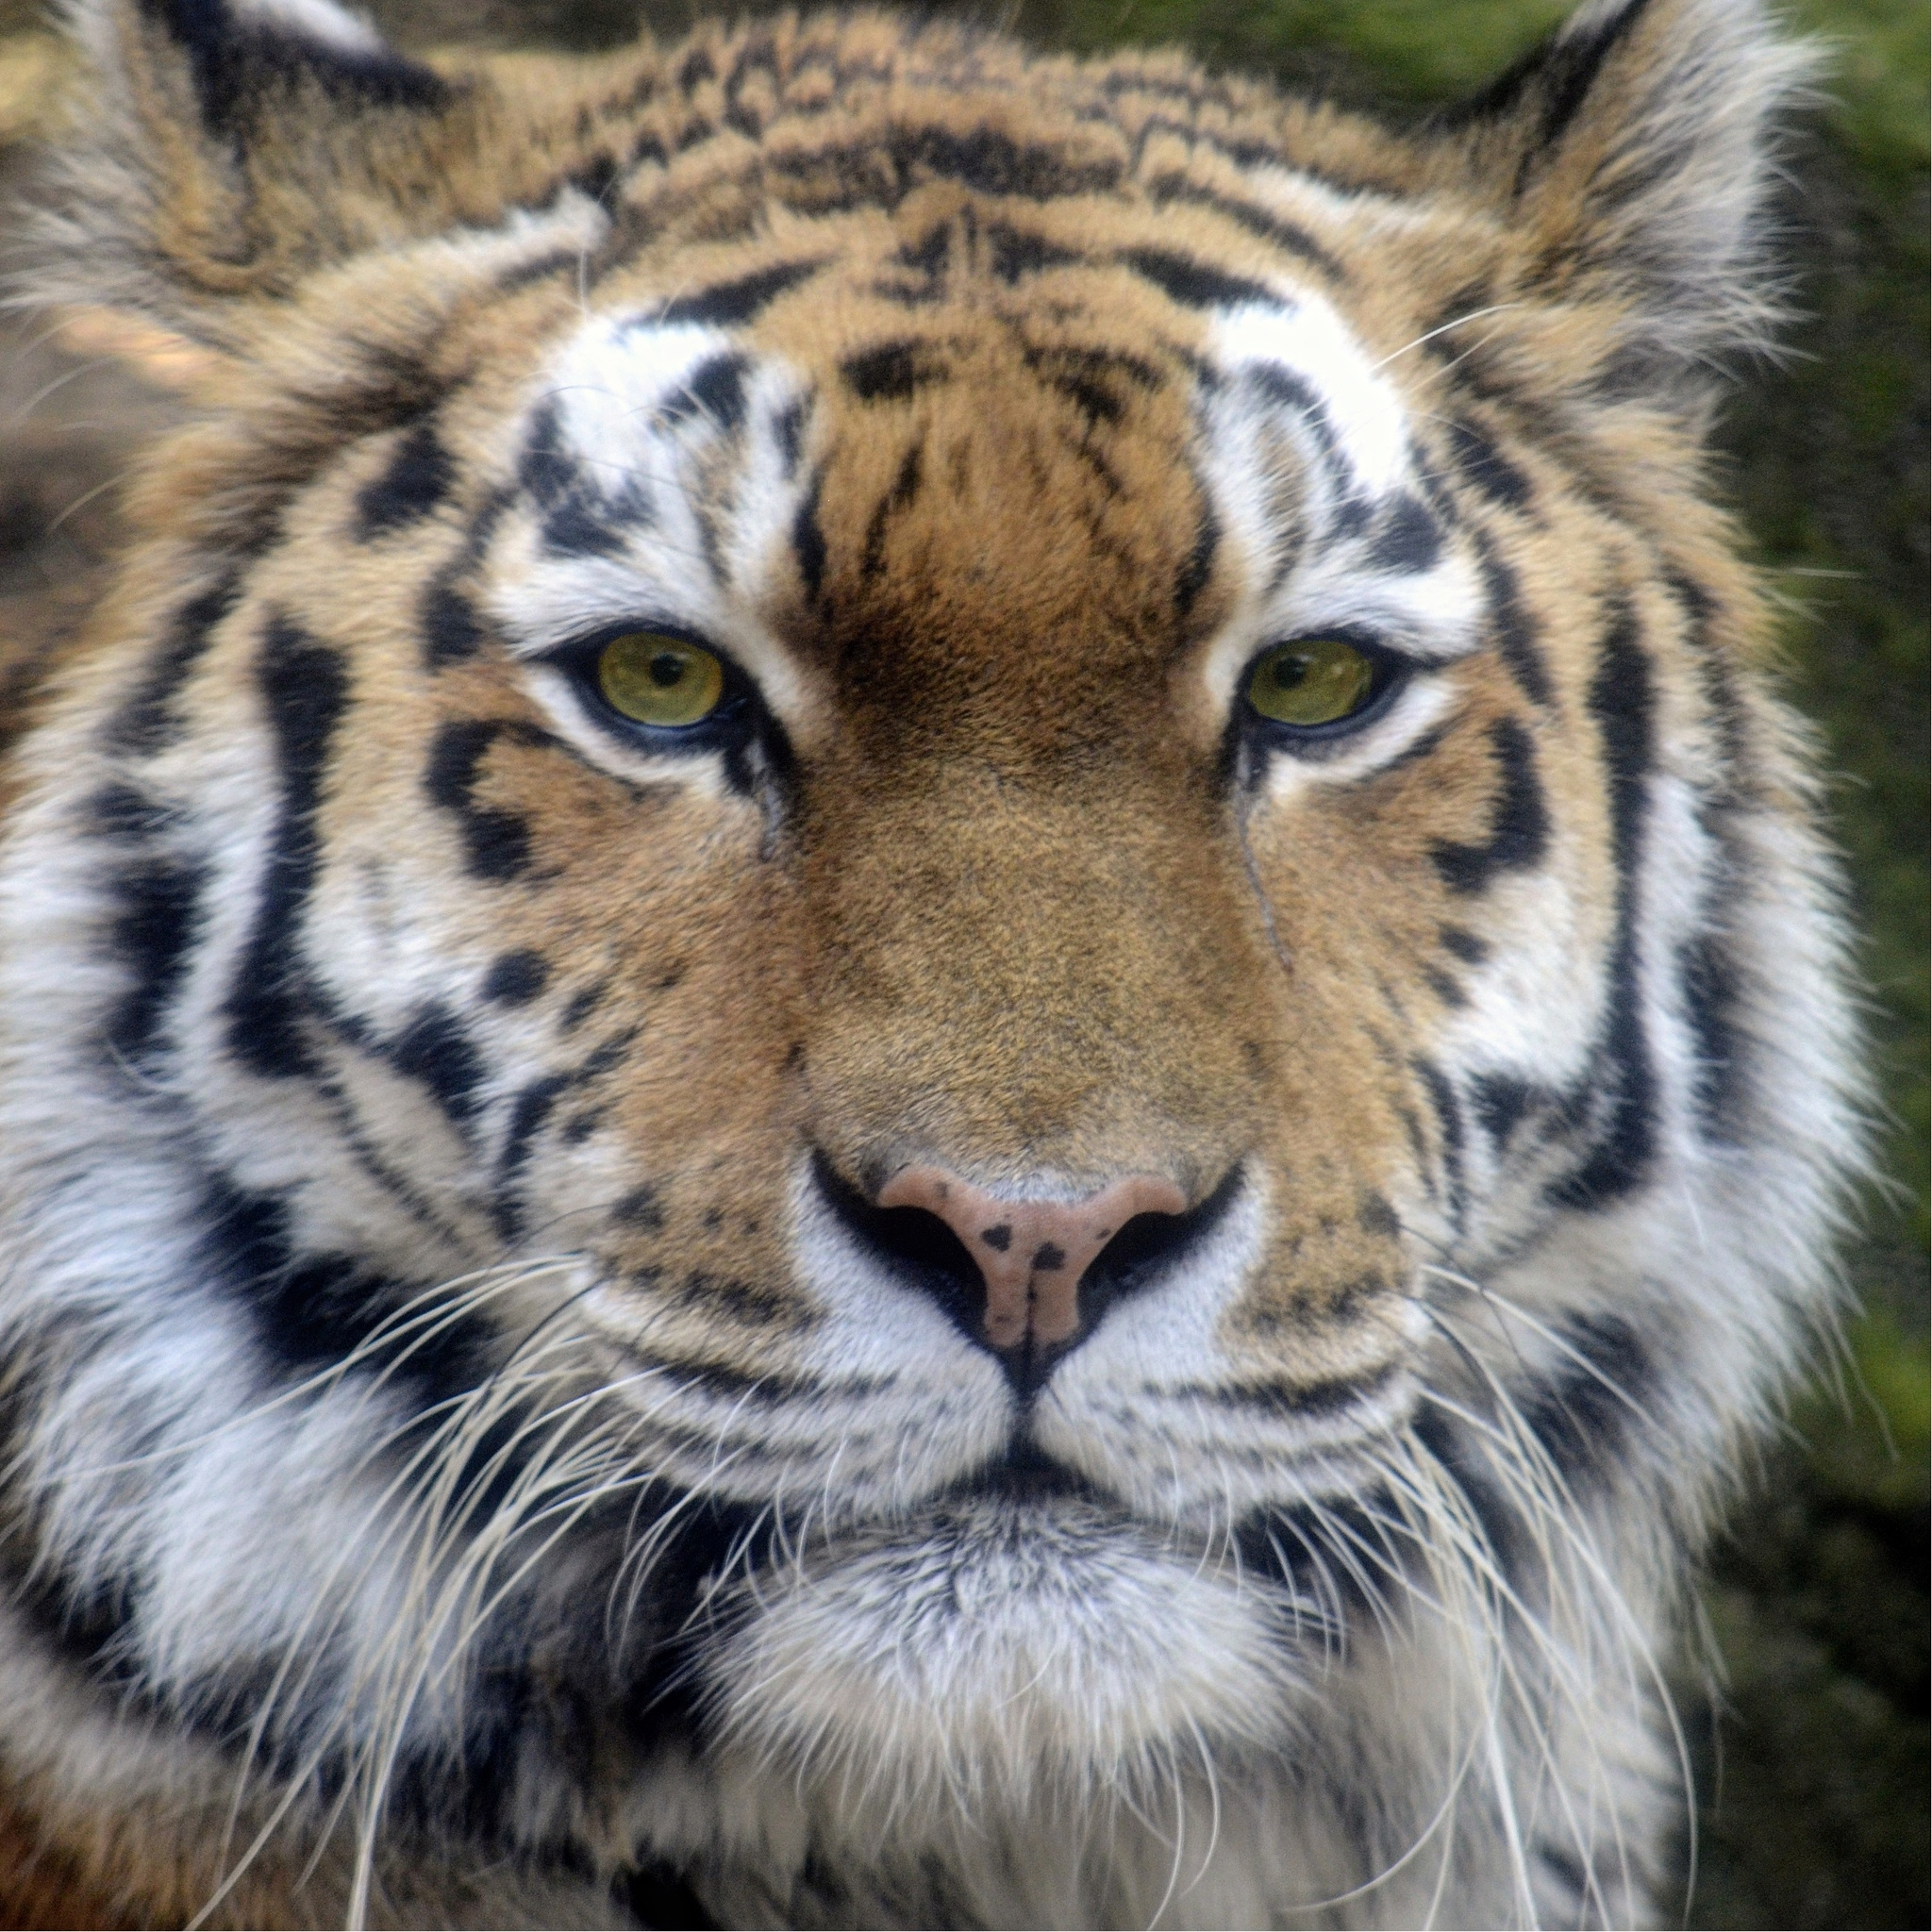tiger: (69, 30, 1775, 1845)
